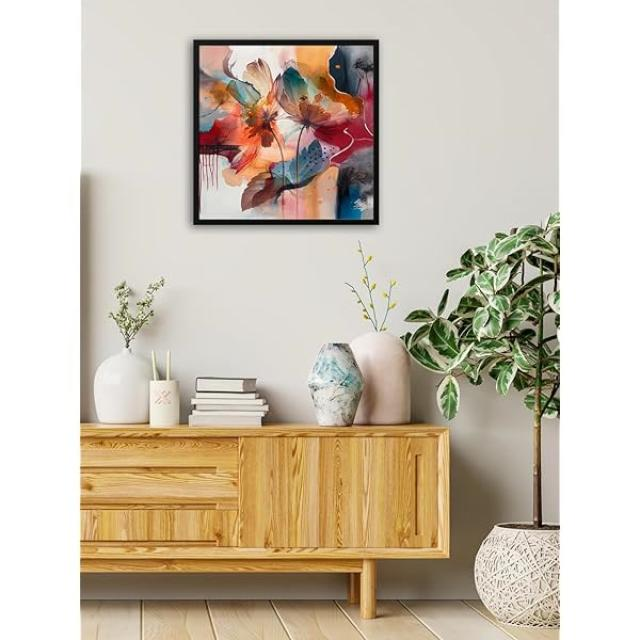painting: (194, 39, 379, 225)
